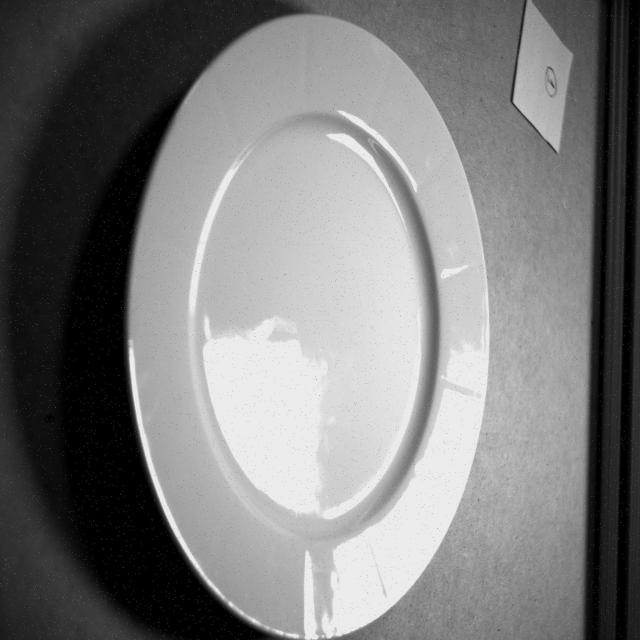plate: (128, 15, 489, 640)
